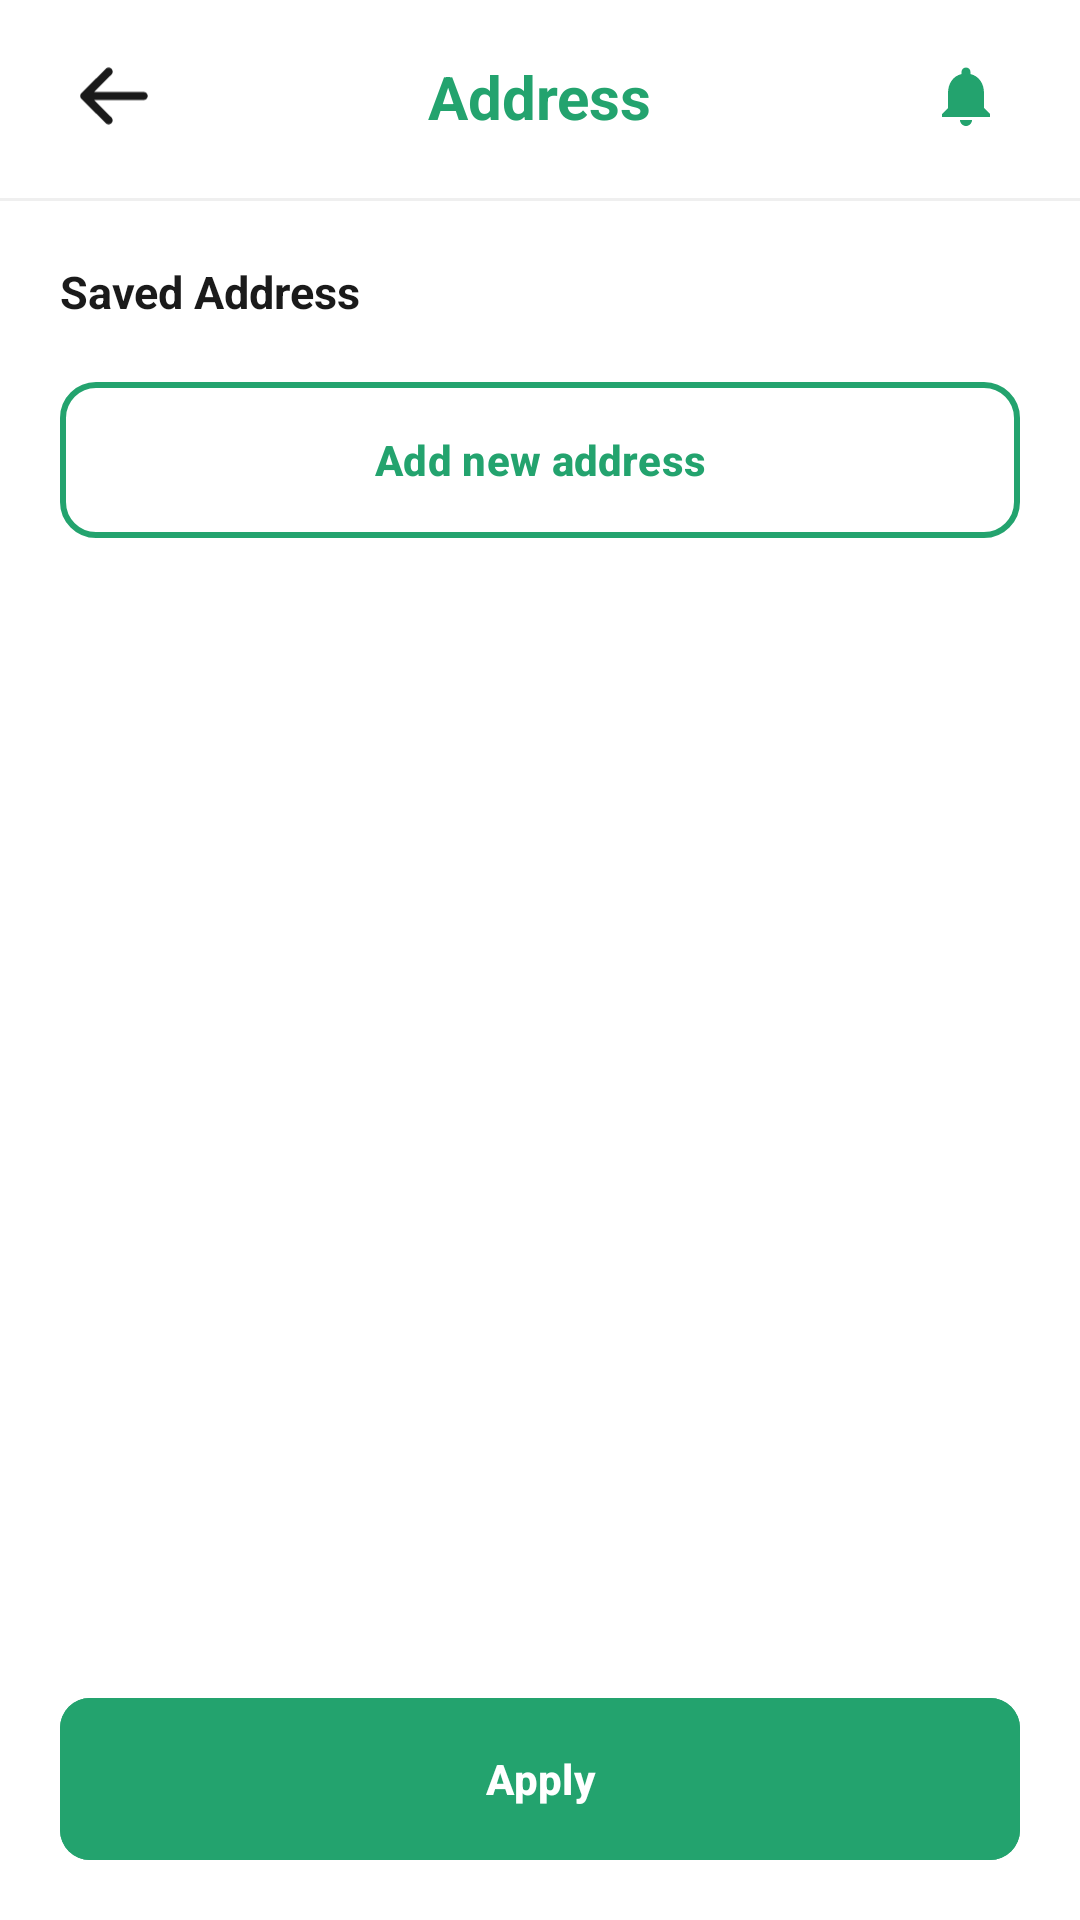

Screen size 1080*1920. Icon name, then its box in pixels as region(x1, y1, x2, y2):
back: region(80, 67, 148, 125)
bell: region(942, 67, 990, 126)
